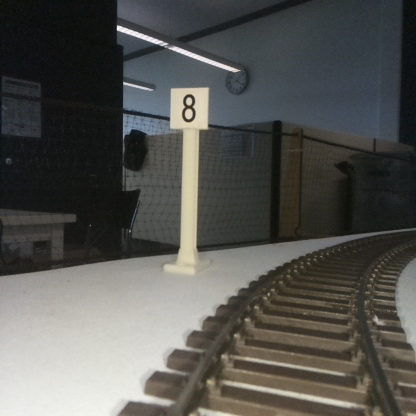white-info-8: (171, 88, 208, 271)
